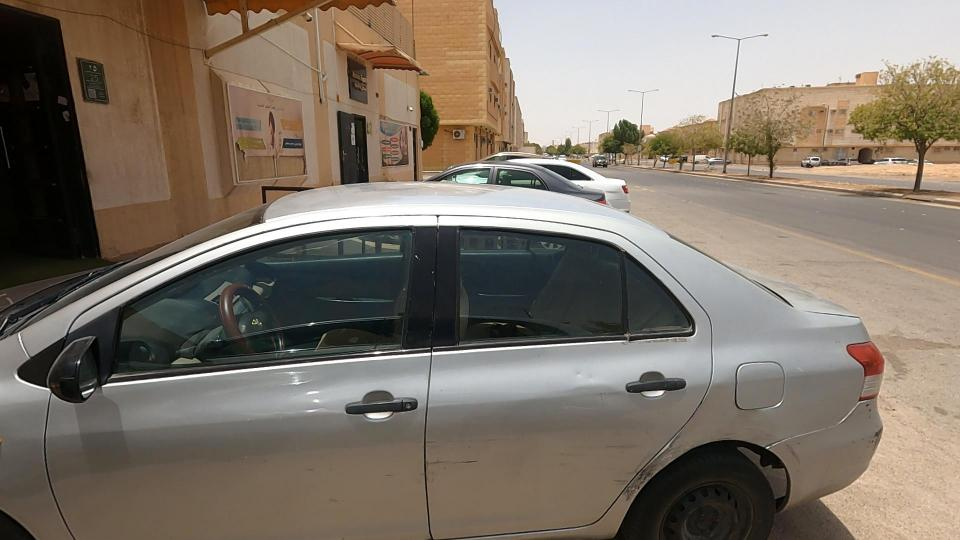BAD_BILLBOARD: (157, 36, 378, 231)
